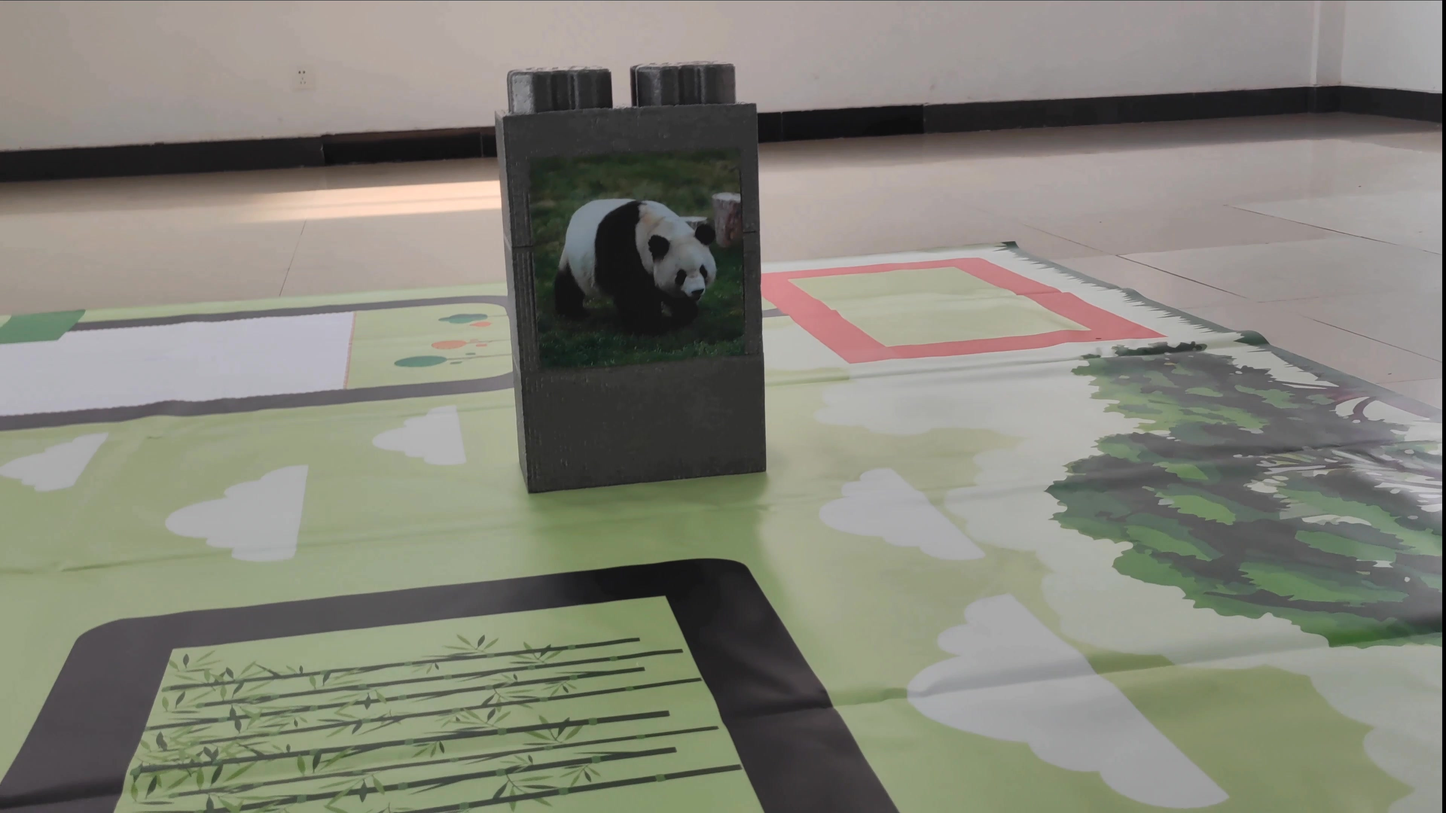panda: (532, 185, 723, 340)
